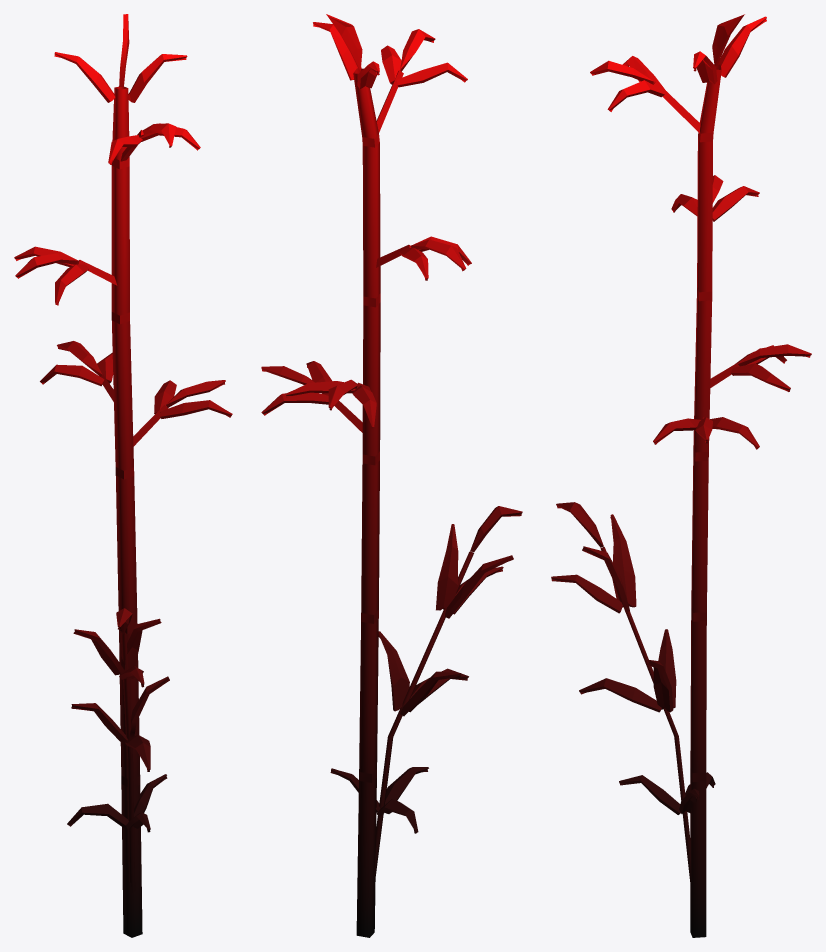
The model's file is TreeBamboo03.fbx.
The picture shows the model from 3 angles, left to right: view 1: azimuth 30°, elevation 25°; view 2: azimuth 150°, elevation 25°; view 3: azimuth 270°, elevation 25°; orthographic projection. The views are drawn at different scales.
Parts seen in each view (by area): view 1: TreeBamboo03_LOD0; view 2: TreeBamboo03_LOD0; view 3: TreeBamboo03_LOD0.
Boxes of the visible parts, x1,y1,x2,y2 form: TreeBamboo03_LOD0: [14, 14, 232, 937]; TreeBamboo03_LOD0: [261, 14, 522, 937]; TreeBamboo03_LOD0: [551, 14, 811, 937].
Size of what is drawn, in the model's own units: 98.44 by 416 by 106.
